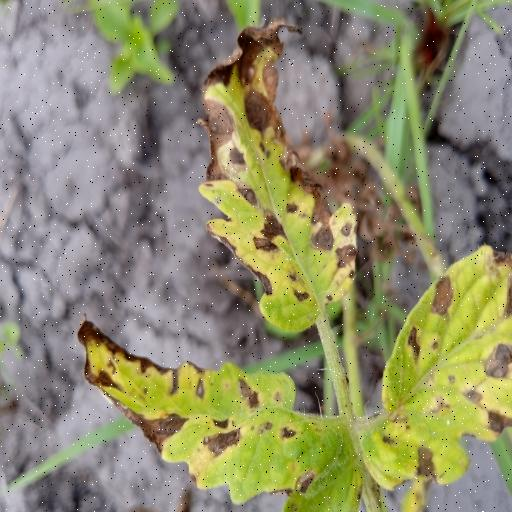Tomato_Brown_Spots: (197, 18, 385, 342), (77, 312, 347, 512), (368, 243, 512, 499)
